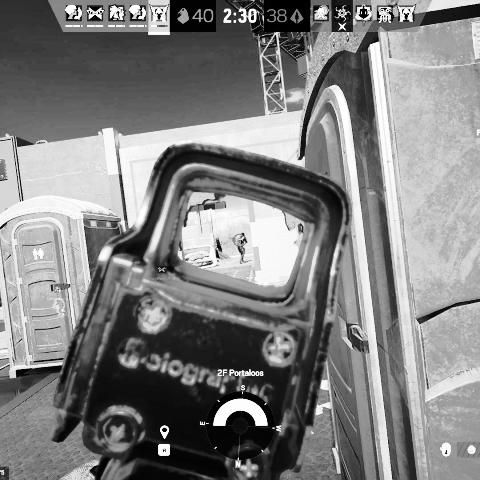Character: (236, 232, 248, 264)
Friend_label: (147, 265, 177, 282), (46, 284, 70, 302)
